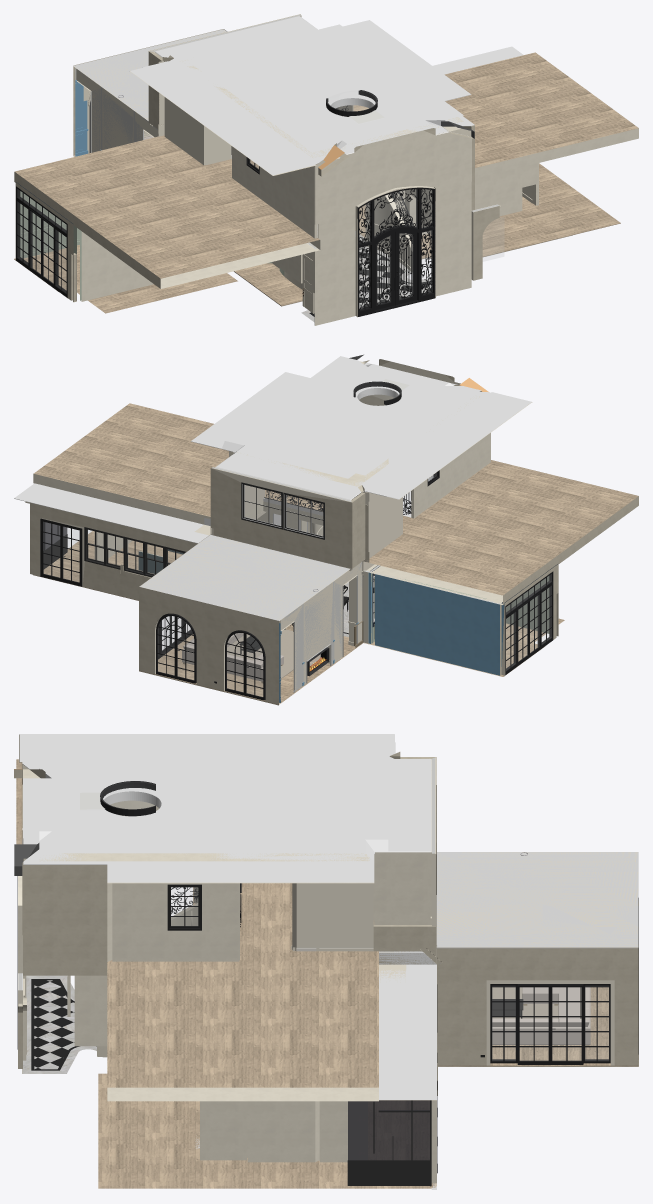
File: family-room-9aa1beb71ce0.glb
The picture shows the model from 3 angles, top to bottom: view 1: azimuth 30°, elevation 25°; view 2: azimuth 150°, elevation 25°; view 3: azimuth 270°, elevation 25°; orthographic projection. The views are drawn at different scales.
Visible parts, largest first — view 1: family-room-look-2575515a05775d9e, family-room-look-e8793759323e04f0, family-room-look-9d91b47435c6fb33, family-room-look-34525a54e63b733b, family-room-look-3b0077416469e01b, family-room-look-d5a4a1b5d3594c04, family-room-look-5f56640b372ec5ce, family-room-look-746250f96522f643, family-room-4a969f5cc1ae3dfe, family-room-look-bce662e26d5a5947, family-room-look-d999b7e09afcf2f4, family-room-9d80b152e3f2ea10 (+30 smaller); view 2: family-room-look-2575515a05775d9e, family-room-look-e8793759323e04f0, family-room-look-9d91b47435c6fb33, family-room-4a969f5cc1ae3dfe, family-room-look-b19b106fc304963c, family-room-look-245f595ae2832e16, family-room-969b861f9850351e, family-room-look-bfb9fa537cd11d1d, family-room-look-9a0e9ee9b2a451d7, family-room-9d80b152e3f2ea10, family-room-look-5f56640b372ec5ce, family-room-55ff1dfd7b659ec1 (+26 smaller); view 3: family-room-look-2575515a05775d9e, family-room-look-e8793759323e04f0, family-room-look-9d91b47435c6fb33, family-room-4a969f5cc1ae3dfe, family-room-look-3b0077416469e01b, family-room-e706aa16b4547c37, family-room-look-62353aa10fc57f23, family-room-50d54560d247b537, family-room-look-c51ecd664a3b22a3, family-room-look-9a0e9ee9b2a451d7, family-room-look-5f56640b372ec5ce, family-room-look-69af8f587252f9fa (+28 smaller).
Part boxes in pixels (left/top/right/bottom): family-room-look-2575515a05775d9e: left=14, top=52, right=638, bottom=288; family-room-look-e8793759323e04f0: left=180, top=23, right=463, bottom=157; family-room-look-9d91b47435c6fb33: left=130, top=16, right=474, bottom=175; family-room-look-34525a54e63b733b: left=314, top=126, right=471, bottom=244; family-room-look-3b0077416469e01b: left=14, top=163, right=620, bottom=306; family-room-look-d5a4a1b5d3594c04: left=314, top=208, right=471, bottom=325; family-room-look-5f56640b372ec5ce: left=254, top=81, right=404, bottom=139; family-room-look-746250f96522f643: left=232, top=146, right=317, bottom=238; family-room-4a969f5cc1ae3dfe: left=73, top=29, right=226, bottom=120; family-room-look-bce662e26d5a5947: left=357, top=187, right=435, bottom=316; family-room-look-d999b7e09afcf2f4: left=80, top=230, right=153, bottom=301; family-room-9d80b152e3f2ea10: left=76, top=69, right=158, bottom=152; family-room-look-2575515a05775d9e: left=33, top=403, right=638, bottom=604; family-room-look-e8793759323e04f0: left=222, top=356, right=481, bottom=486; family-room-look-9d91b47435c6fb33: left=191, top=362, right=532, bottom=500; family-room-4a969f5cc1ae3dfe: left=139, top=534, right=349, bottom=621; family-room-look-b19b106fc304963c: left=375, top=573, right=501, bottom=675; family-room-look-245f595ae2832e16: left=210, top=467, right=352, bottom=568; family-room-969b861f9850351e: left=139, top=587, right=280, bottom=704; family-room-look-bfb9fa537cd11d1d: left=30, top=502, right=197, bottom=600; family-room-look-9a0e9ee9b2a451d7: left=14, top=483, right=208, bottom=543; family-room-9d80b152e3f2ea10: left=280, top=562, right=362, bottom=690; family-room-look-5f56640b372ec5ce: left=324, top=377, right=464, bottom=430; family-room-55ff1dfd7b659ec1: left=281, top=562, right=362, bottom=692; family-room-look-2575515a05775d9e: left=16, top=759, right=378, bottom=1101; family-room-look-e8793759323e04f0: left=39, top=756, right=388, bottom=861; family-room-look-9d91b47435c6fb33: left=19, top=734, right=431, bottom=883; family-room-4a969f5cc1ae3dfe: left=436, top=852, right=638, bottom=948; family-room-look-3b0077416469e01b: left=98, top=920, right=436, bottom=1188; family-room-e706aa16b4547c37: left=437, top=948, right=633, bottom=1065; family-room-look-62353aa10fc57f23: left=23, top=865, right=112, bottom=975; family-room-50d54560d247b537: left=436, top=852, right=638, bottom=948; family-room-look-c51ecd664a3b22a3: left=112, top=883, right=239, bottom=961; family-room-look-9a0e9ee9b2a451d7: left=379, top=964, right=436, bottom=1100; family-room-look-5f56640b372ec5ce: left=83, top=756, right=196, bottom=825; family-room-look-69af8f587252f9fa: left=292, top=883, right=373, bottom=947.
Bounding box in the file's own units: 21.02 × 7.02 × 16.88.
73 materials, 13 textured.
